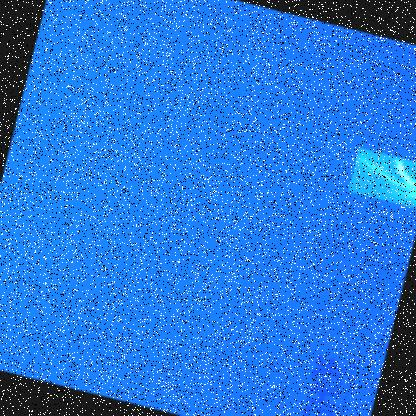mako-shark: (347, 146, 415, 210)
